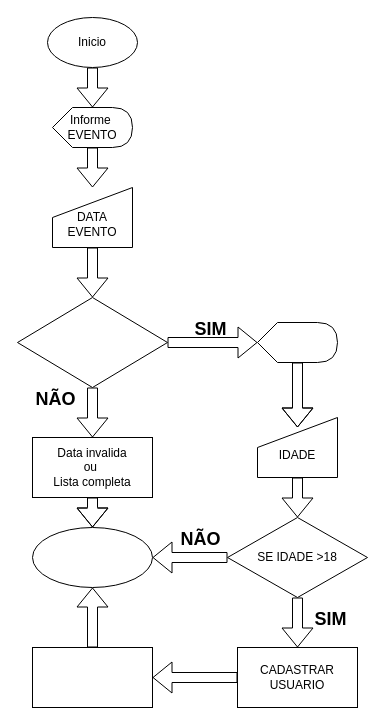
This 385x725 diagram has some shape labels left out. The shapes that lost their labels are listed below. From the top down, each one's box as (x1, y1, x2, y2) in pixels, then its label:
(16, 296, 168, 388): SE DATA >ATUAL E Nº EVENTOS<100
(256, 322, 338, 362): Informe idade
(32, 526, 152, 588): FIM
(32, 646, 152, 708): EXIBIR LISTA PARTICIPANTES E PALESTRANTES
